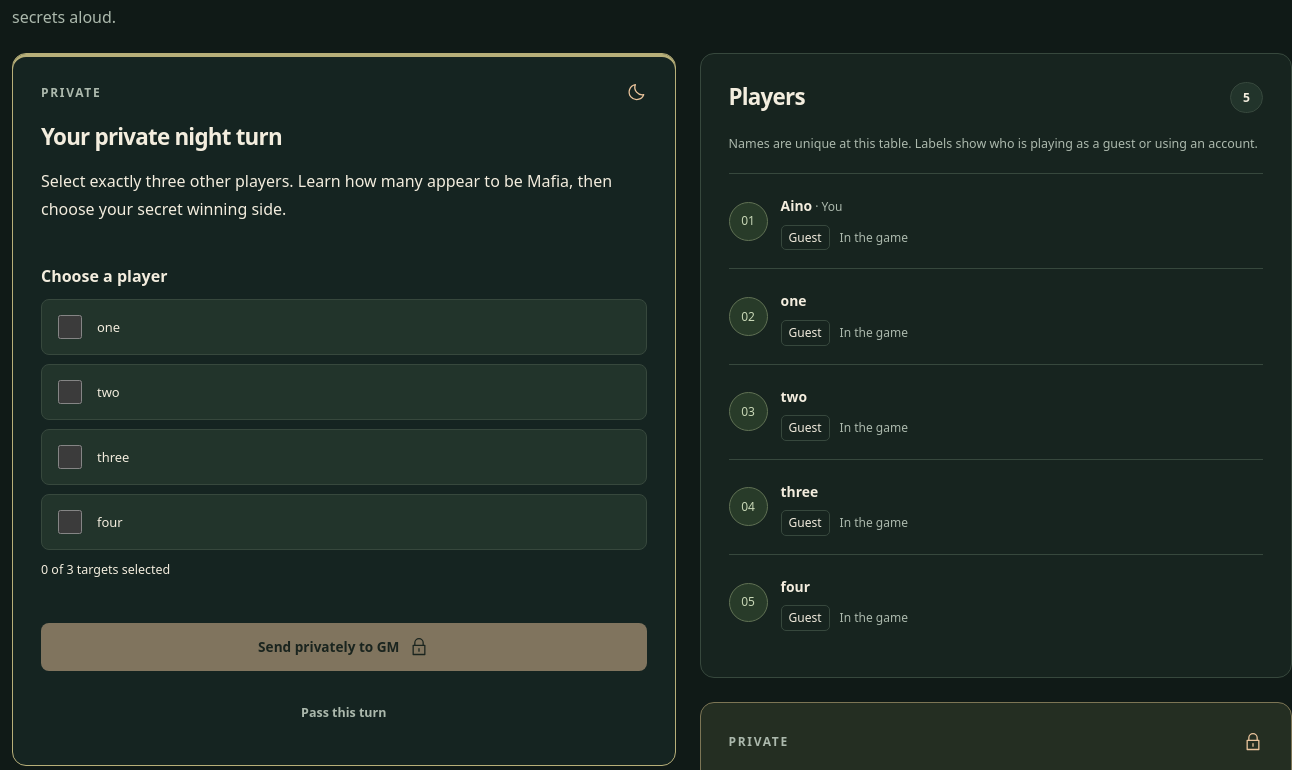
it: collects three distinct prediction targets and forces a Mafia alignment when required
The image size is (1292, 770).
Later steps or results of the test are not shown.
(page scrolled)
Expected: the button "Send privately to GM" is disabled, [41,623,646,671]
Click the checkbox labelled "one". click: (70, 327)
box: [58,315,82,339]
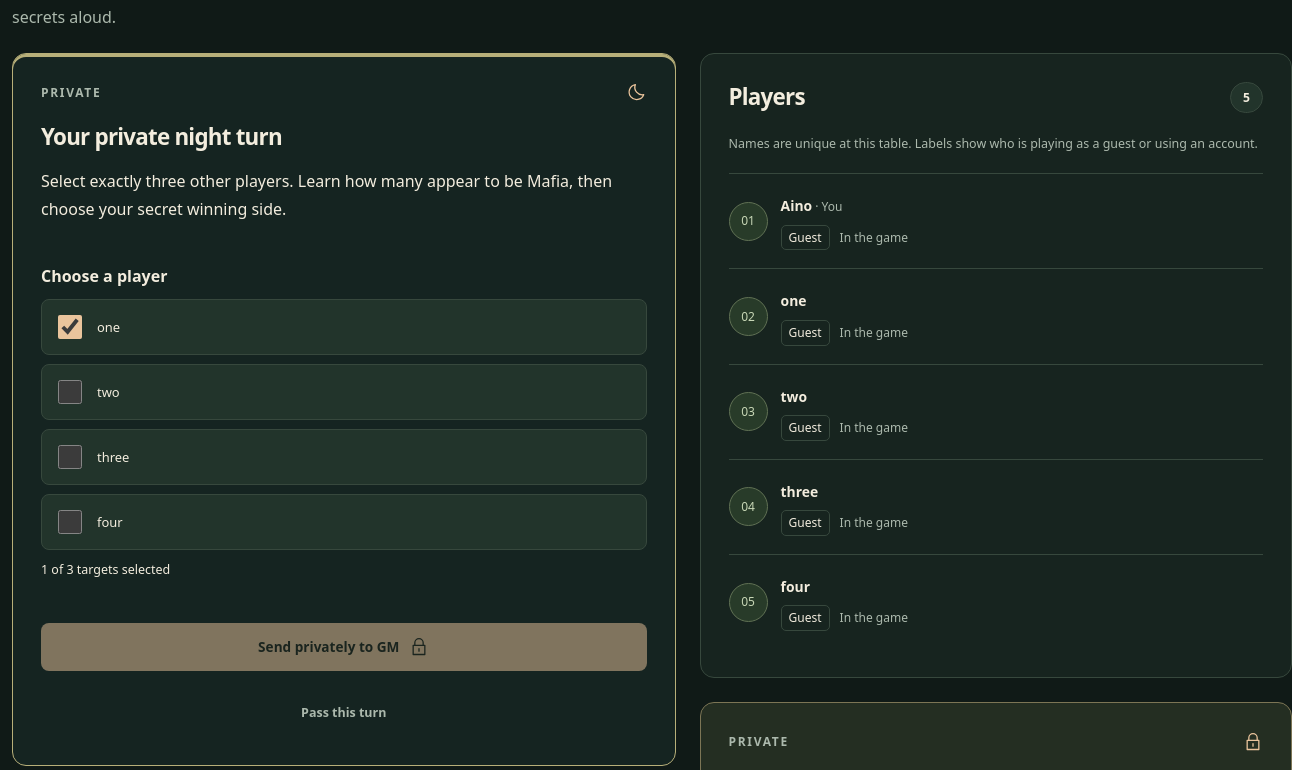
Click the checkbox labelled "two". click: (70, 392)
box: [58,380,82,404]
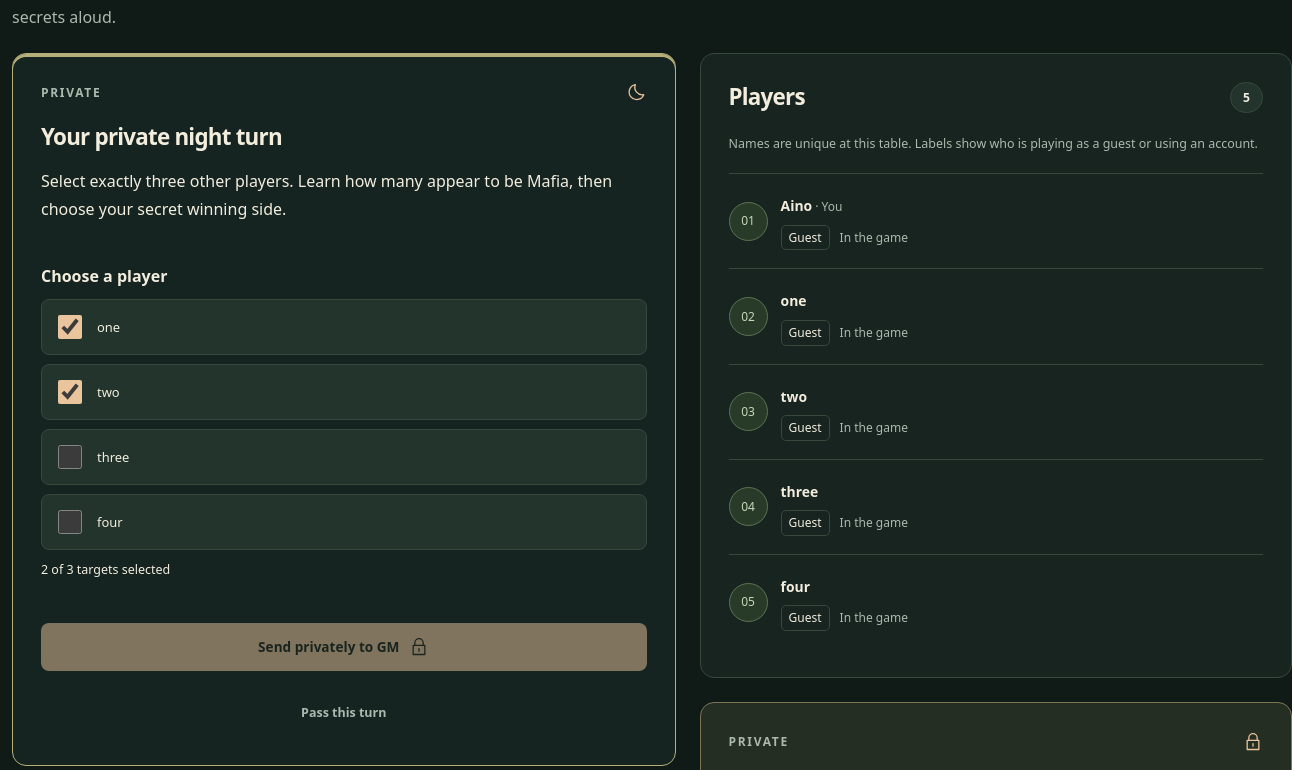
Click the checkbox labelled "three". click: (70, 457)
box: [58,445,82,469]
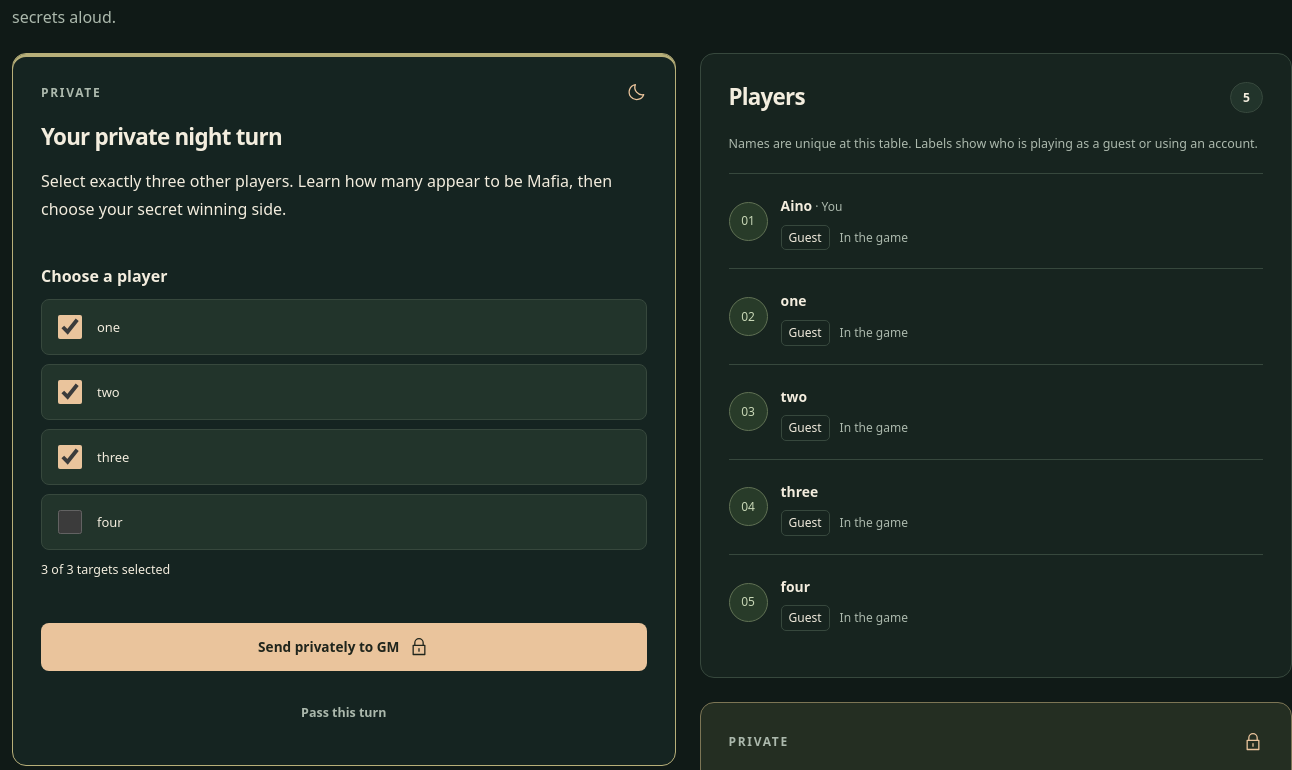
Now the checkbox labelled "four" is disabled, box [58,510,82,534]
